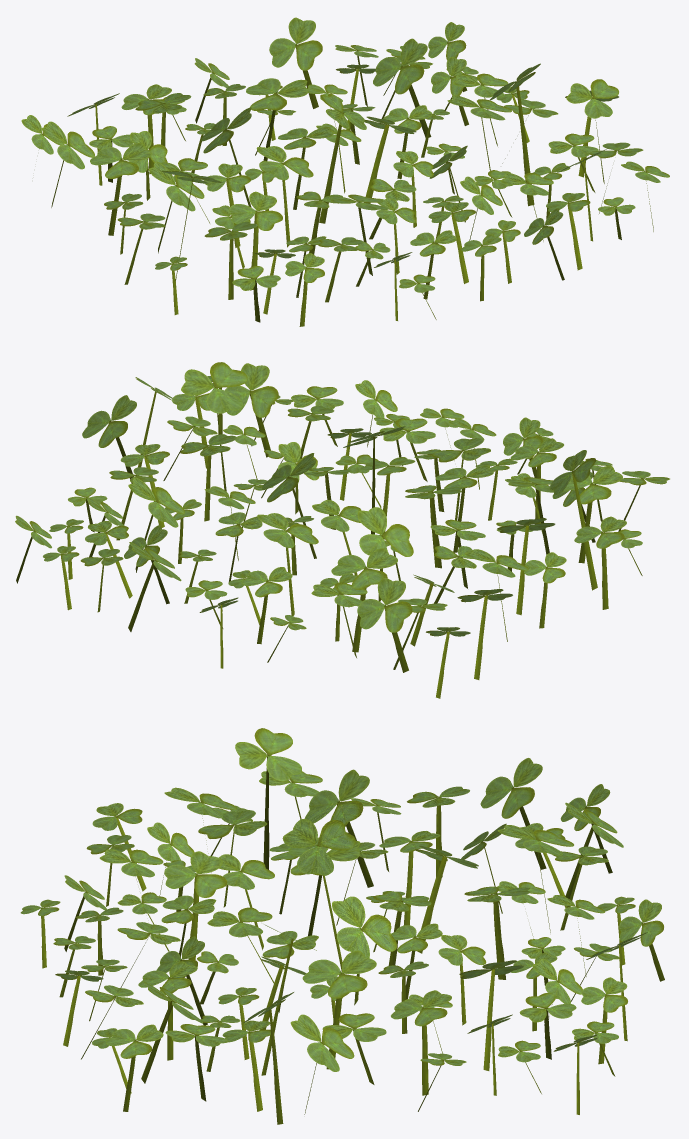
File: ground_plant_02.obj
3 renders of one model, top to bottom at view 1: azimuth 30°, elevation 25°; view 2: azimuth 150°, elevation 25°; view 3: azimuth 270°, elevation 25°, orthographic. The views are drawn at different scales.
Parts seen in each view (by area): view 1: Ground_Plant_02; view 2: Ground_Plant_02; view 3: Ground_Plant_02.
Part boxes in pixels (<box>): Ground_Plant_02: <box>21,17,669,326</box>; Ground_Plant_02: <box>15,362,669,698</box>; Ground_Plant_02: <box>20,728,664,1124</box>.
Bounding box in the file's own units: 1.4 × 0.3586 × 1.32.
1 material, 1 textured.
